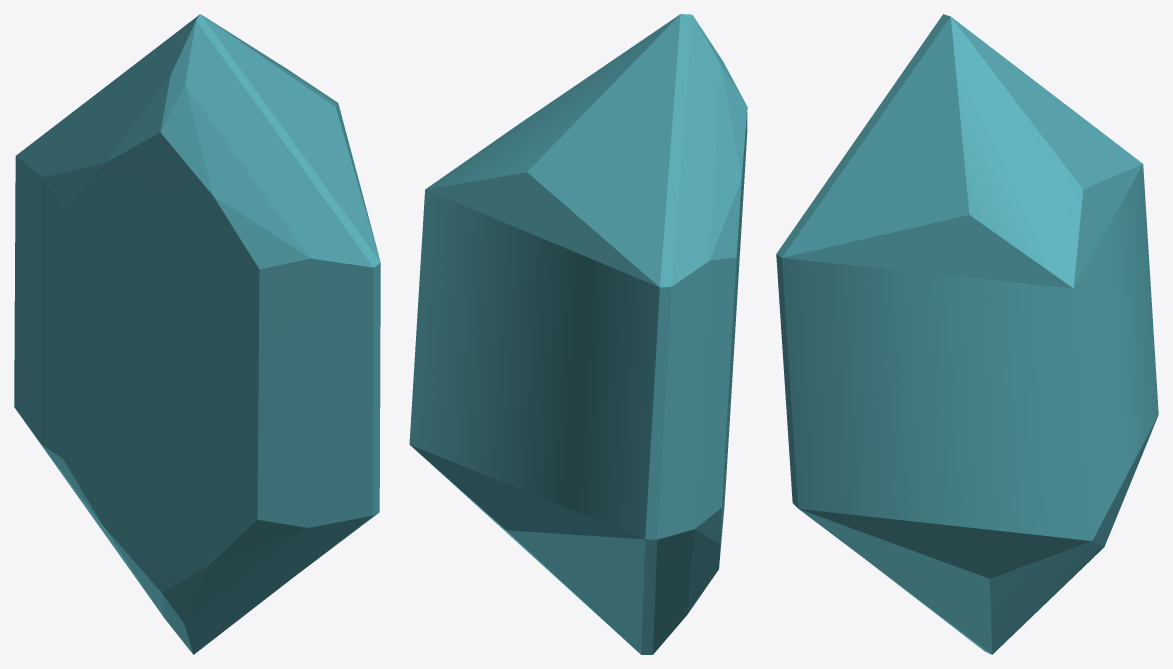
Rendered from BL4_8shapes_Hex_Classic_Stone.001 2.glb.
3 renders of one model, left to right at view 1: azimuth 30°, elevation 25°; view 2: azimuth 150°, elevation 25°; view 3: azimuth 270°, elevation 25°, orthographic. The views are drawn at different scales.
Parts seen in each view (by area): view 1: BL4_8shapes_Hex_Classic_Stone.001; view 2: BL4_8shapes_Hex_Classic_Stone.001; view 3: BL4_8shapes_Hex_Classic_Stone.001.
Part boxes in pixels (<box>): BL4_8shapes_Hex_Classic_Stone.001: <box>14,14,380,654</box>; BL4_8shapes_Hex_Classic_Stone.001: <box>409,14,747,654</box>; BL4_8shapes_Hex_Classic_Stone.001: <box>776,14,1158,654</box>.
Size of the model in its own units: 0.3259 by 0.6685 by 0.3679.
